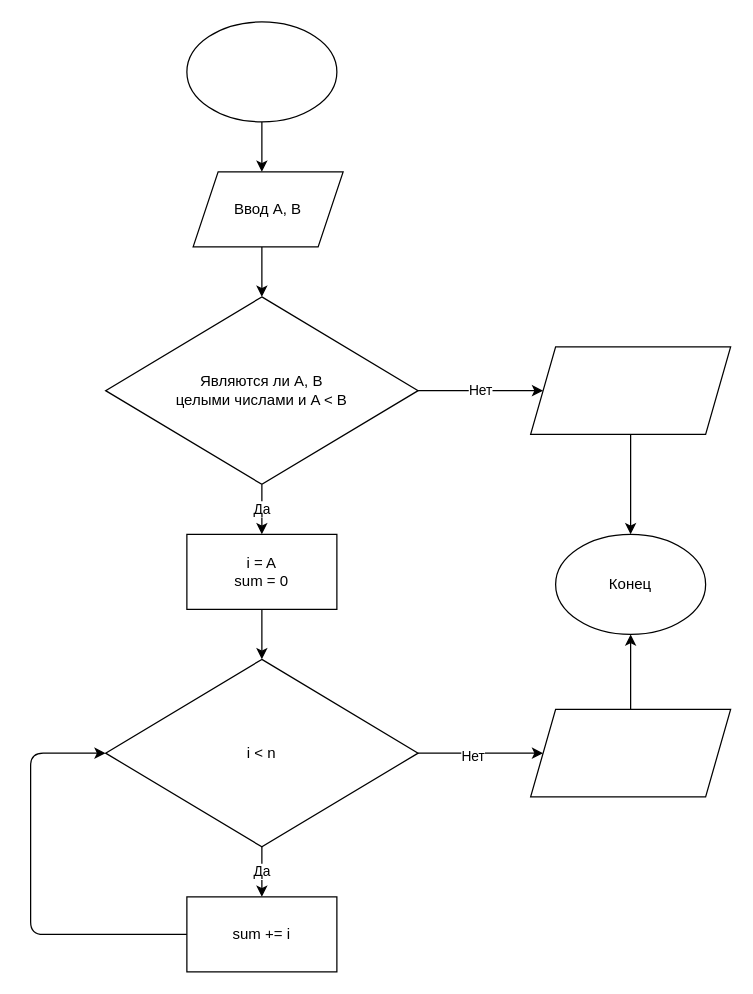
Some shapes in this 753 by 994 pixel diagram are drawn without their labels. The shapes that lost their labels are listed below. From the top down, each one's centre as x and y in pixels, then its label:
point (261, 71): Начало
point (630, 390): Ошибка
point (630, 752): Вывод sum
